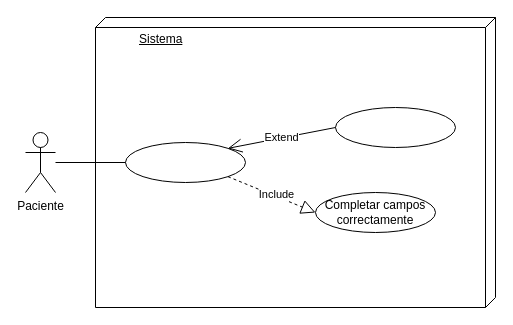
The diagram is 513 pixels wide and 325 high, and some of its shapes have lost their labels. Here are the shapes that lost their labels. From the top down, the centre of each, then its label:
At (x=395, y=127): "Almacenar registro".
At (x=185, y=162): "Registrar peso".
